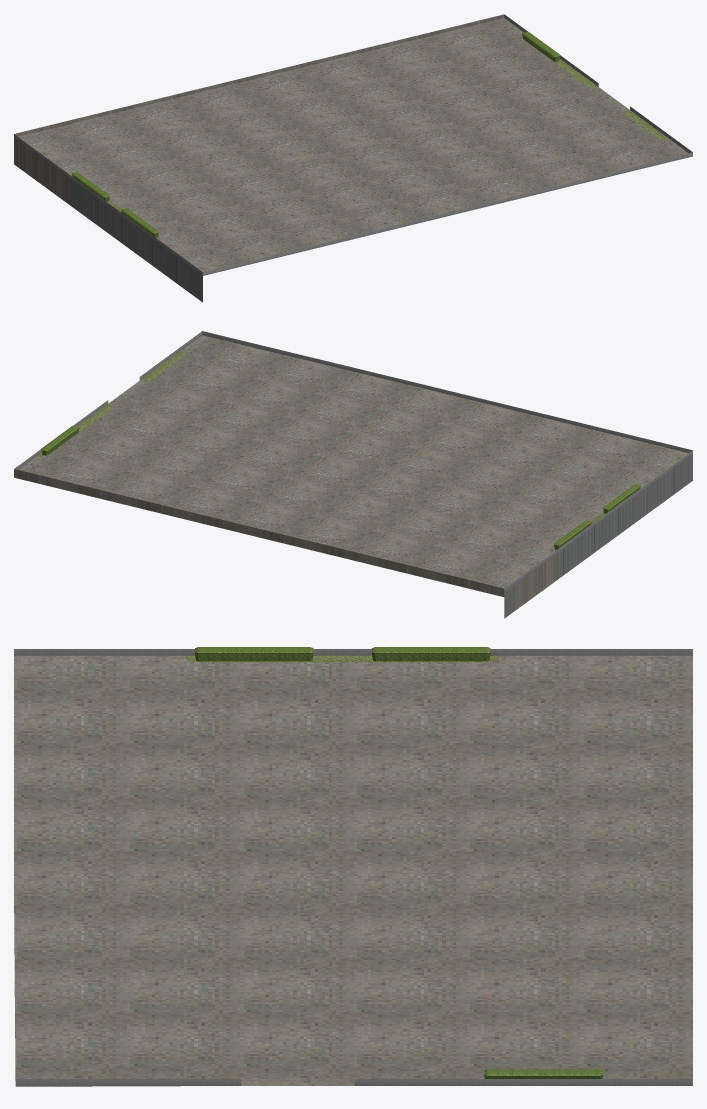
The model's file is lodsegrnd02_lvs.obj.
The picture shows the model from 3 angles, top to bottom: view 1: azimuth 30°, elevation 25°; view 2: azimuth 150°, elevation 25°; view 3: azimuth 270°, elevation 25°; orthographic projection. The views are drawn at different scales.
Visible parts, largest first — view 1: lodsegrnd02_lvs; view 2: lodsegrnd02_lvs; view 3: lodsegrnd02_lvs.
Part boxes in pixels (<box>): lodsegrnd02_lvs: <box>14,14,692,302</box>; lodsegrnd02_lvs: <box>14,331,692,618</box>; lodsegrnd02_lvs: <box>14,647,692,1086</box>.
Size of the model in its own units: 180 by 11.42 by 120.
Materials: 4 (4 with a texture image).
